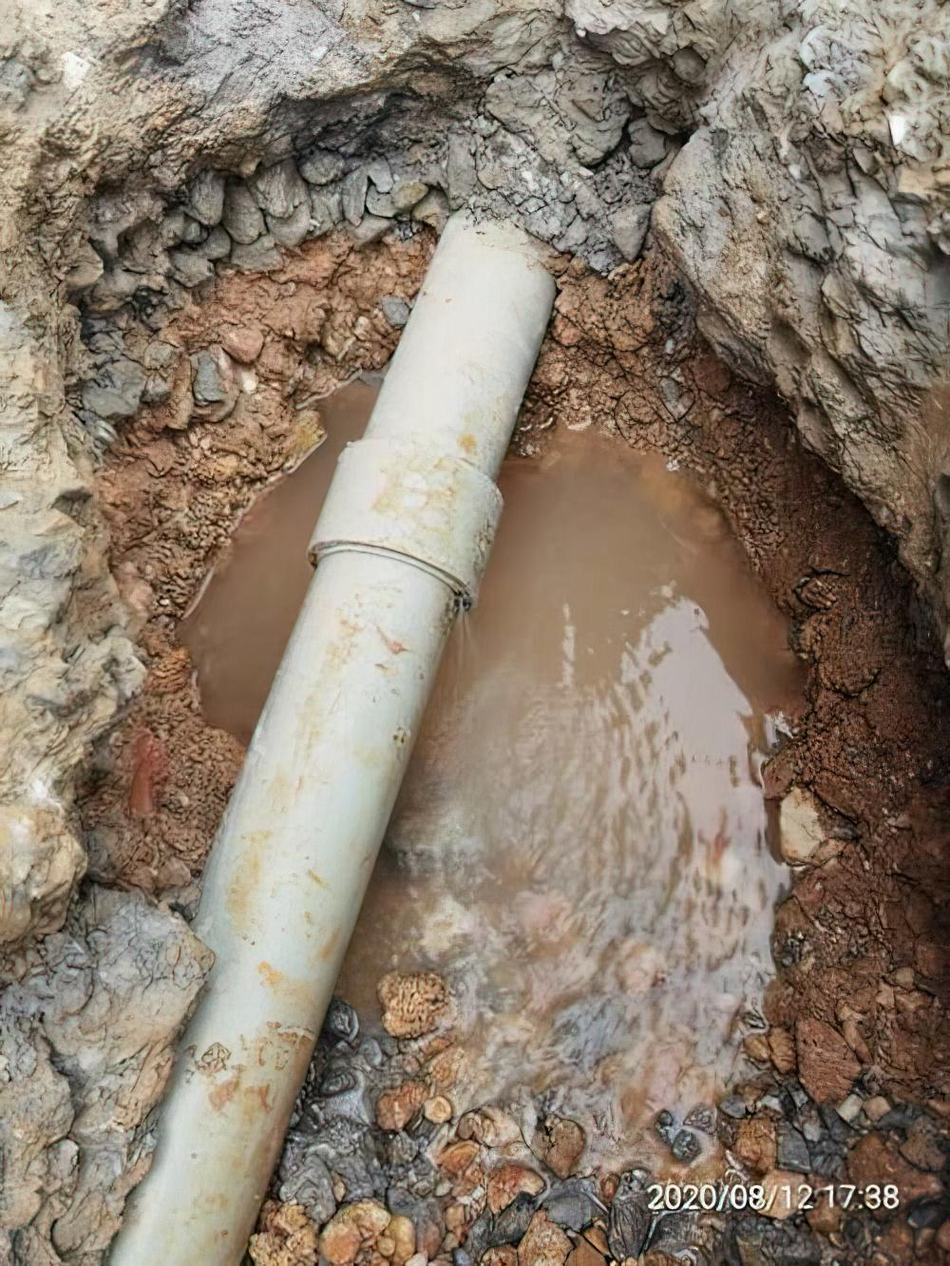pipe burst: (444, 584, 491, 686)
water accumulation: (179, 367, 800, 1161)
